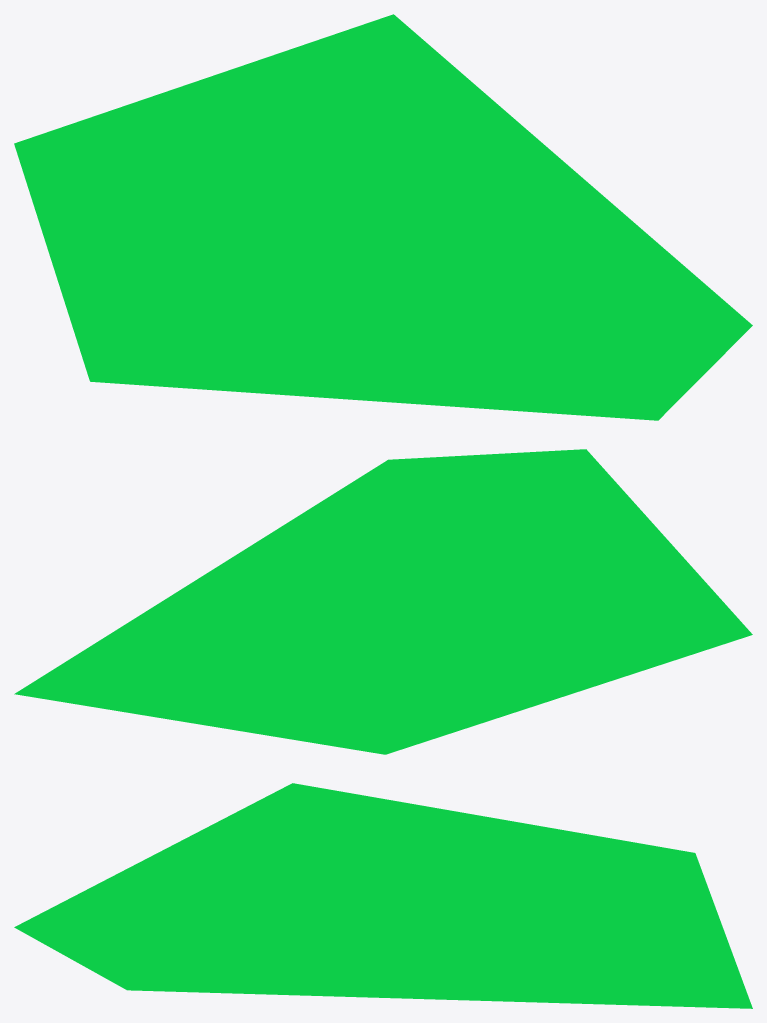
The model's file is Paris.glb.
The picture shows the model from 3 angles, top to bottom: view 1: azimuth 30°, elevation 25°; view 2: azimuth 150°, elevation 25°; view 3: azimuth 270°, elevation 25°; orthographic projection. The views are drawn at different scales.
Visible parts, largest first — view 1: Paris; view 2: Paris; view 3: Paris.
Part boxes in pixels (x1,y1,x2,y2): Paris: [14, 14, 752, 420]; Paris: [14, 449, 752, 754]; Paris: [14, 783, 752, 1008].
Size of the model in its own units: 3.46 by 0 by 4.79.
